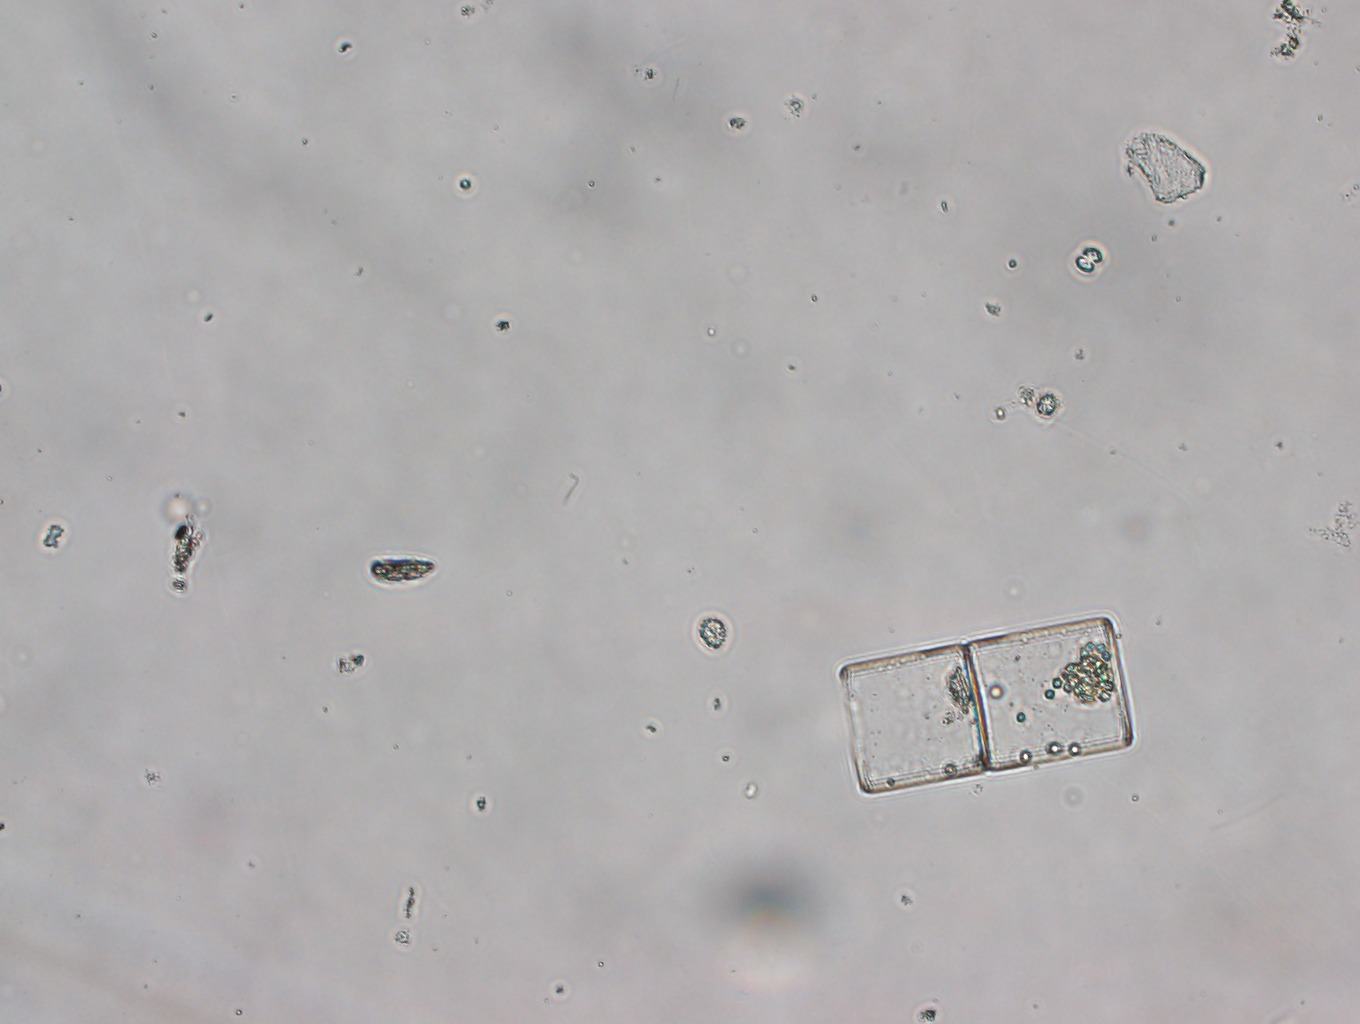guinardia flaccida: (819, 599, 1144, 801)
